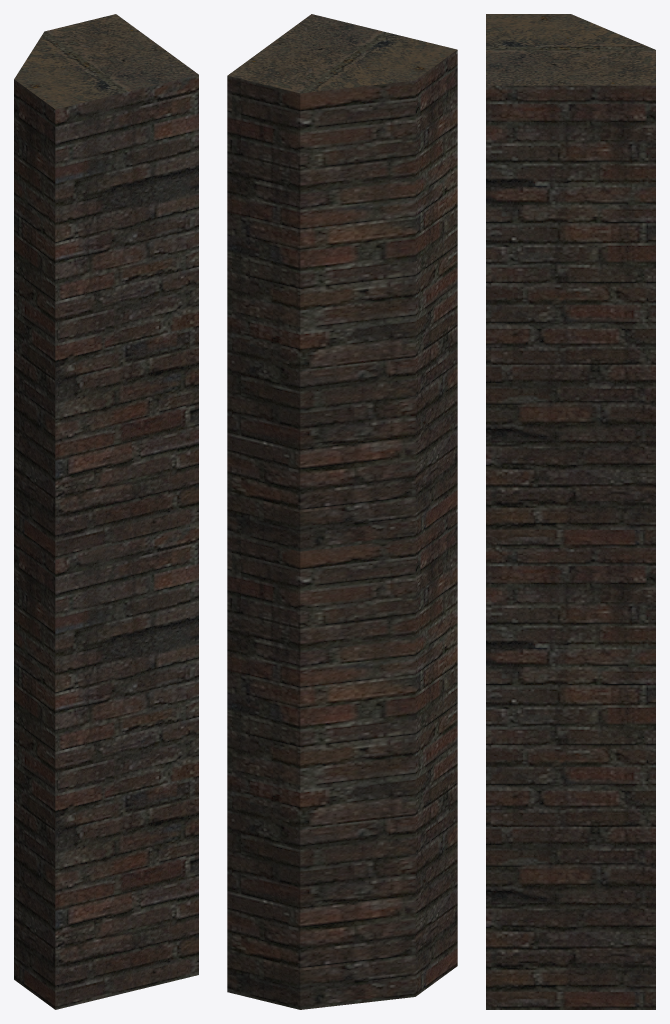
The model's file is pillar_hs_6.dae.
3 renders of one model, left to right at view 1: azimuth 30°, elevation 25°; view 2: azimuth 150°, elevation 25°; view 3: azimuth 270°, elevation 25°, orthographic. The views are drawn at different scales.
Visible parts, largest first — view 1: pillar_hs_6; view 2: pillar_hs_6; view 3: pillar_hs_6.
Boxes of the visible parts, box(x1,y1,x2,y2) form: pillar_hs_6: box(14, 14, 198, 1009); pillar_hs_6: box(227, 14, 457, 1009); pillar_hs_6: box(486, 14, 655, 1009).
Size of the model in its own units: 1 by 1 by 6.
2 materials, 2 textured.
